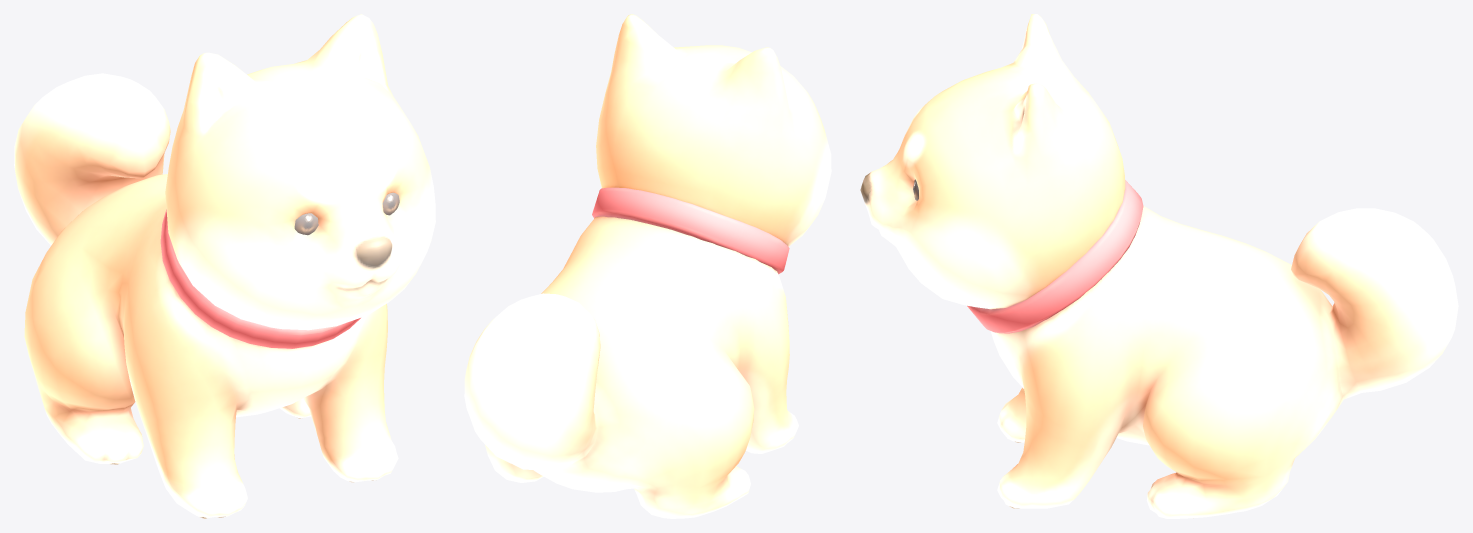
Rendered from shiba.glb.
The picture shows the model from 3 angles, left to right: view 1: azimuth 30°, elevation 25°; view 2: azimuth 150°, elevation 25°; view 3: azimuth 270°, elevation 25°; orthographic projection. The views are drawn at different scales.
Parts seen in each view (by area): view 1: Box002_default_0, Group18985_default_0, Object001_default_0; view 2: Box002_default_0, Group18985_default_0; view 3: Box002_default_0, Group18985_default_0.
Boxes of the visible parts, left/top/right/bottom form: Box002_default_0: left=14, top=14, right=435, bottom=518; Group18985_default_0: left=160, top=209, right=360, bottom=348; Object001_default_0: left=294, top=192, right=399, bottom=235; Box002_default_0: left=464, top=14, right=831, bottom=518; Group18985_default_0: left=592, top=187, right=789, bottom=274; Box002_default_0: left=860, top=14, right=1458, bottom=518; Group18985_default_0: left=967, top=180, right=1143, bottom=333.
Bounding box in the file's own units: 0.9209 × 1.38 × 1.78.
